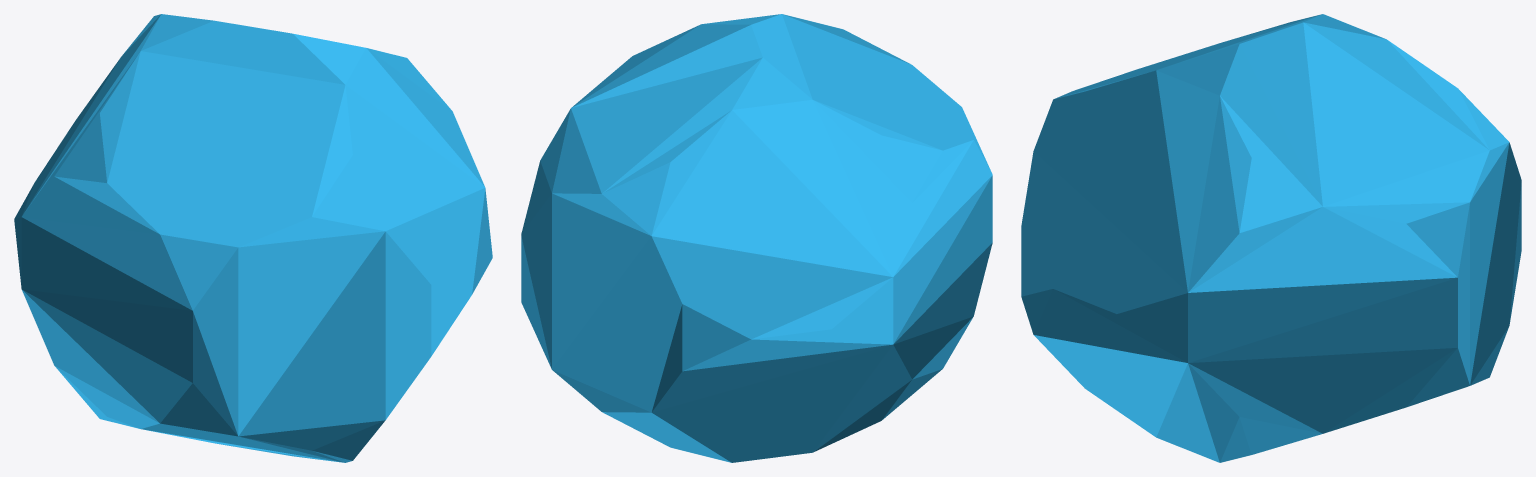
The picture shows the model from 3 angles, left to right: view 1: azimuth 30°, elevation 25°; view 2: azimuth 150°, elevation 25°; view 3: azimuth 270°, elevation 25°; orthographic projection. The views are drawn at different scales.
Visible parts, largest first — view 1: body; view 2: body; view 3: body.
Part boxes in pixels (x1,y1,x2,y2): body: (14,14,492,462); body: (521,14,992,462); body: (1021,14,1521,462).
Size of the model in its own units: 0.7017 by 0.75 by 0.8284.
